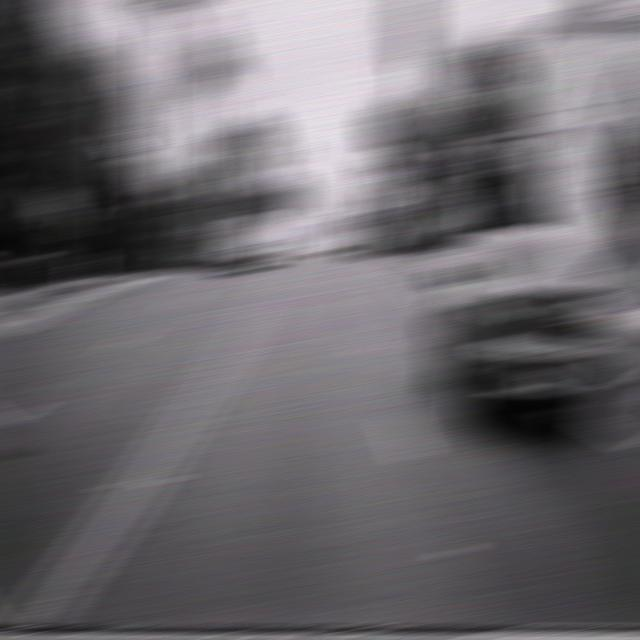speedLimit35: (420, 150, 451, 175)
